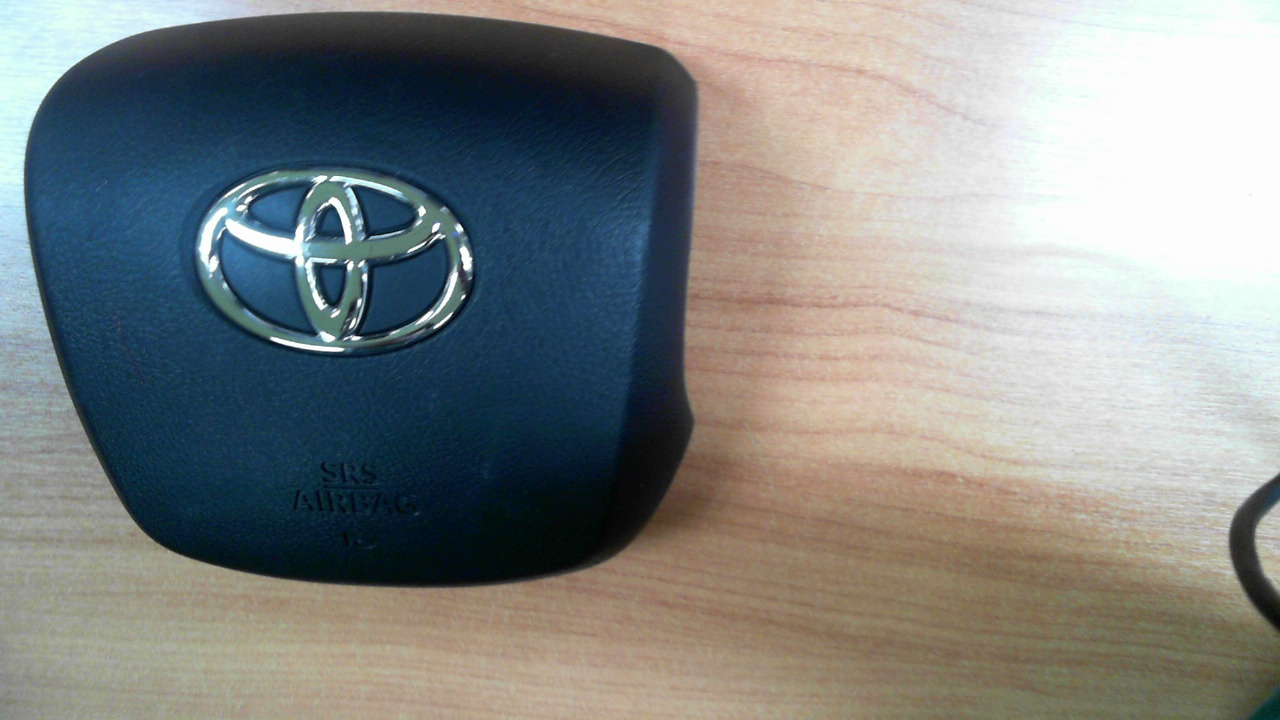Airbag: (23, 10, 701, 590)
Toyota: (196, 166, 474, 359)
